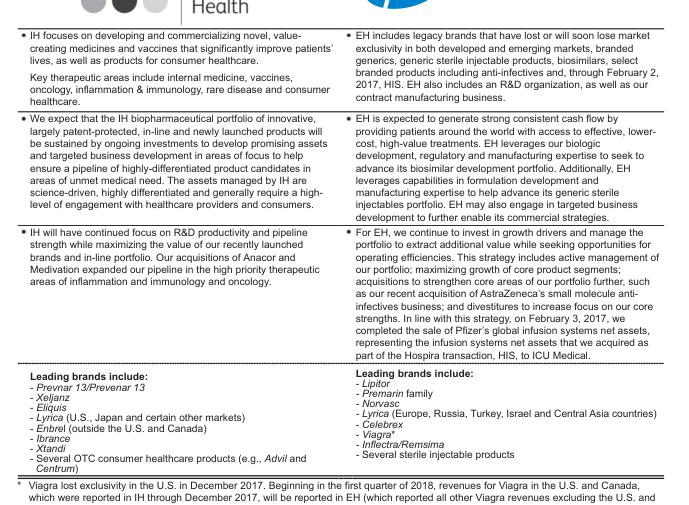table: (28, 29, 658, 473)
table column: (28, 29, 343, 473), (343, 29, 658, 473)
table row: (28, 223, 658, 363), (28, 109, 658, 223), (28, 363, 658, 473), (28, 29, 658, 109)
